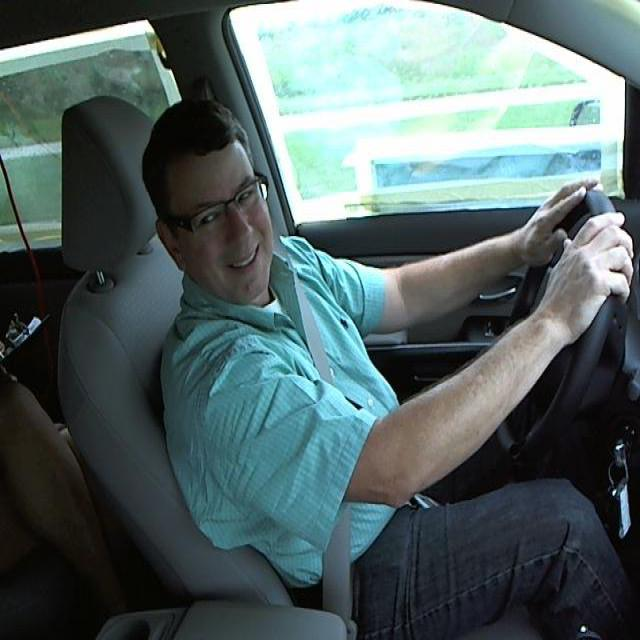seatbelt: (296, 280, 364, 609)
